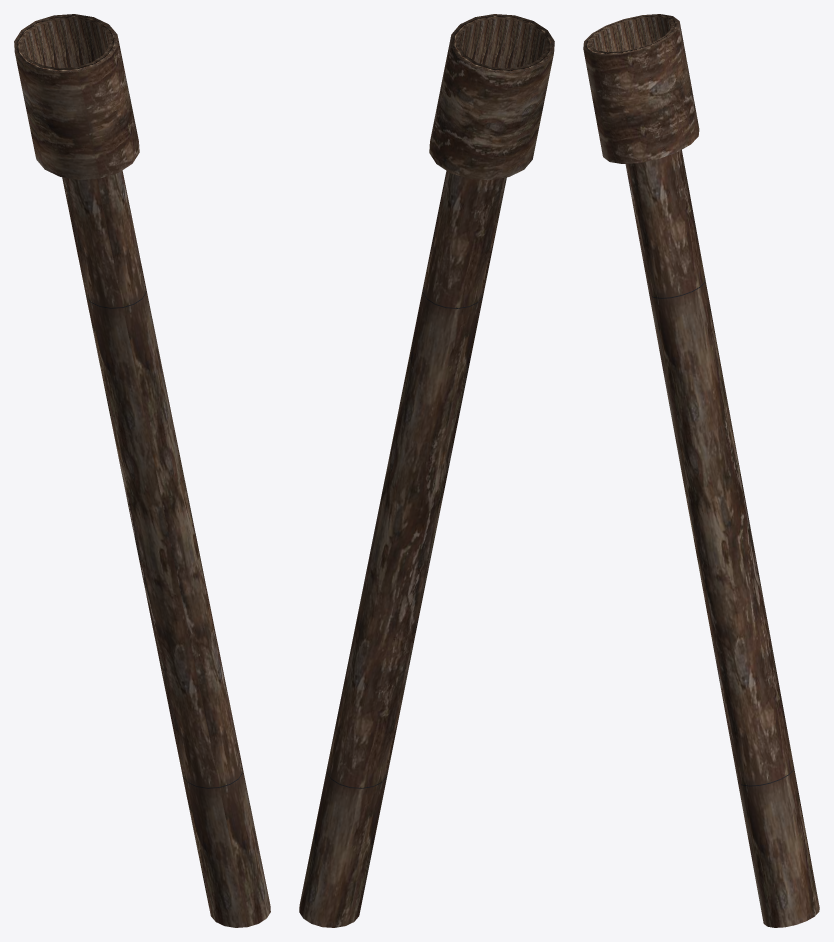
The model's file is Amazonie_Torche_Main.fbx.
The picture shows the model from 3 angles, left to right: view 1: azimuth 30°, elevation 25°; view 2: azimuth 150°, elevation 25°; view 3: azimuth 330°, elevation 25°; orthographic projection. The views are drawn at different scales.
Visible parts, largest first — view 1: Cylinder; view 2: Cylinder; view 3: Cylinder.
Part boxes in pixels (bbox=[...]): Cylinder: bbox=[14, 14, 270, 927]; Cylinder: bbox=[299, 14, 554, 927]; Cylinder: bbox=[583, 14, 819, 927].
Bounding box in the file's own units: 26.28 × 96.03 × 11.68.
